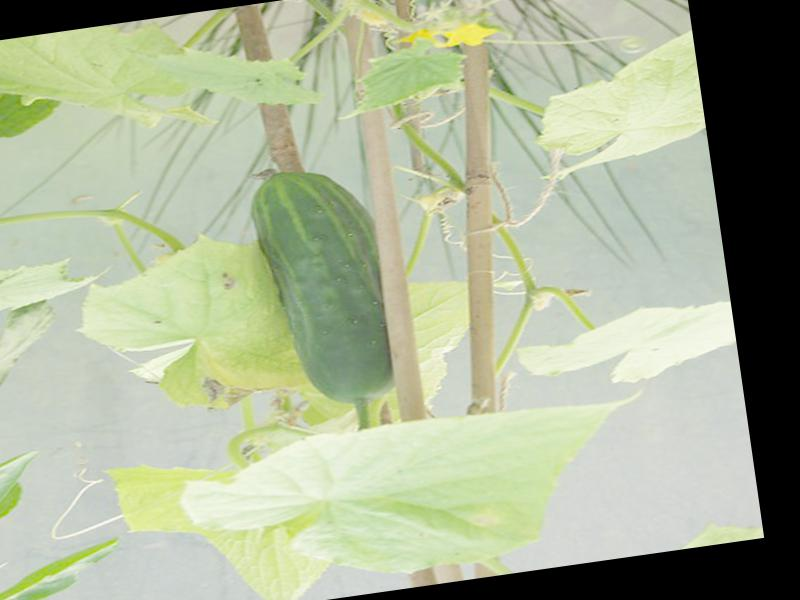Cucumber: (243, 156, 399, 413)
